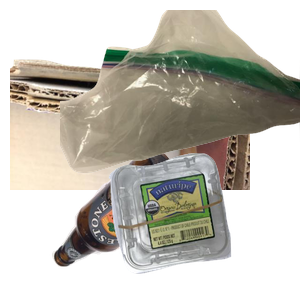cardboard: (10, 57, 250, 237)
glass: (49, 145, 229, 300)
plastic: (106, 151, 300, 300)
trash: (60, 10, 300, 176)
